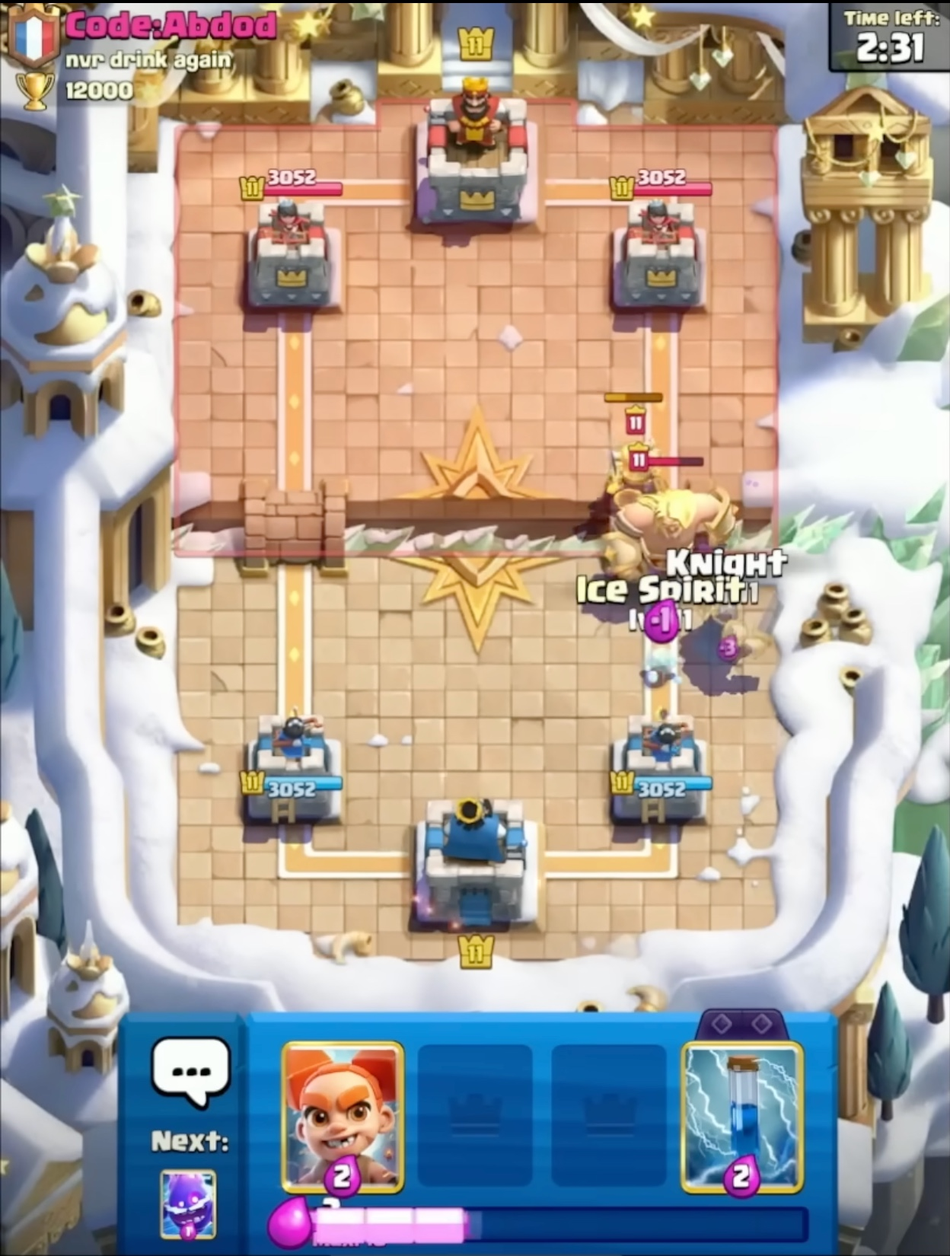hero-giant: (604, 446, 741, 601)
hero-mini-pekka: (600, 385, 674, 498)
